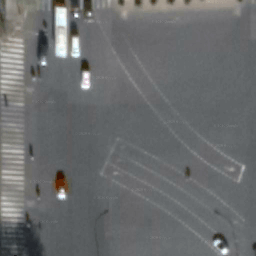car: (55, 4, 67, 58), (212, 235, 232, 256), (55, 171, 67, 200), (71, 34, 81, 57), (39, 43, 48, 68), (81, 69, 91, 90), (72, 5, 81, 20), (86, 10, 93, 24)
